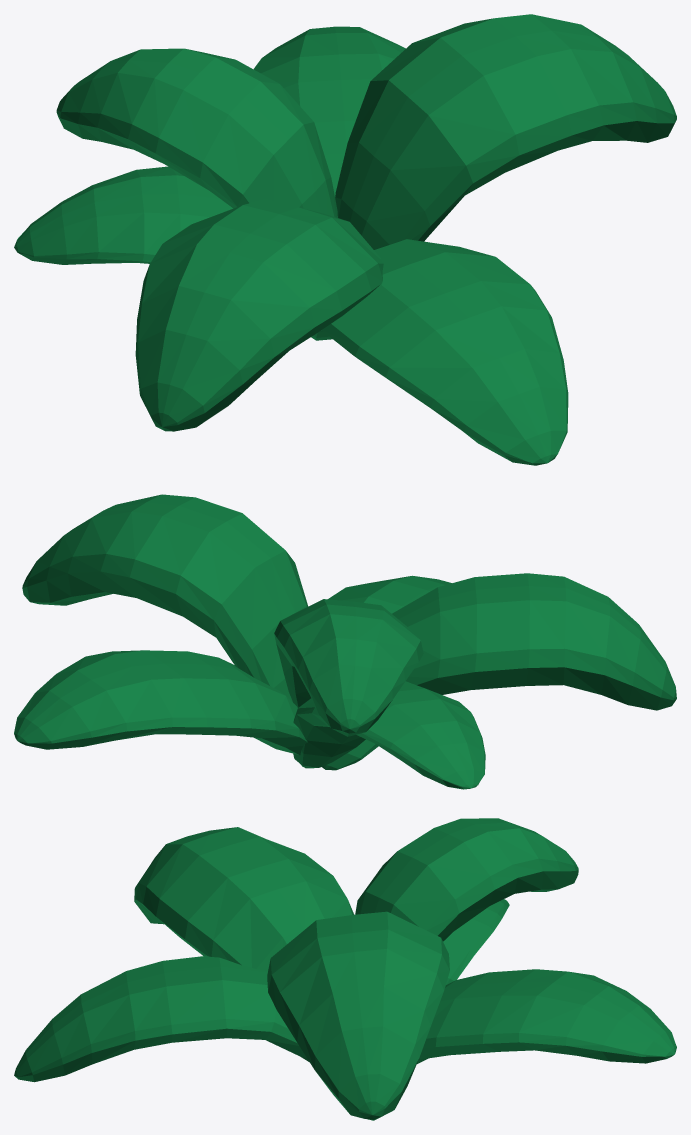
Rendered from plantA_forest.obj.
3 renders of one model, top to bottom at view 1: azimuth 30°, elevation 25°; view 2: azimuth 150°, elevation 25°; view 3: azimuth 270°, elevation 25°, orthographic. The views are drawn at different scales.
Parts seen in each view (by area): view 1: plantA_forest_Cube.050; view 2: plantA_forest_Cube.050; view 3: plantA_forest_Cube.050.
Part boxes in pixels (x1,y1,x2,y2): plantA_forest_Cube.050: (14, 14, 676, 465); plantA_forest_Cube.050: (14, 494, 676, 789); plantA_forest_Cube.050: (14, 818, 676, 1120).
Size of the model in its own units: 0.6713 by 0.2624 by 0.695.
